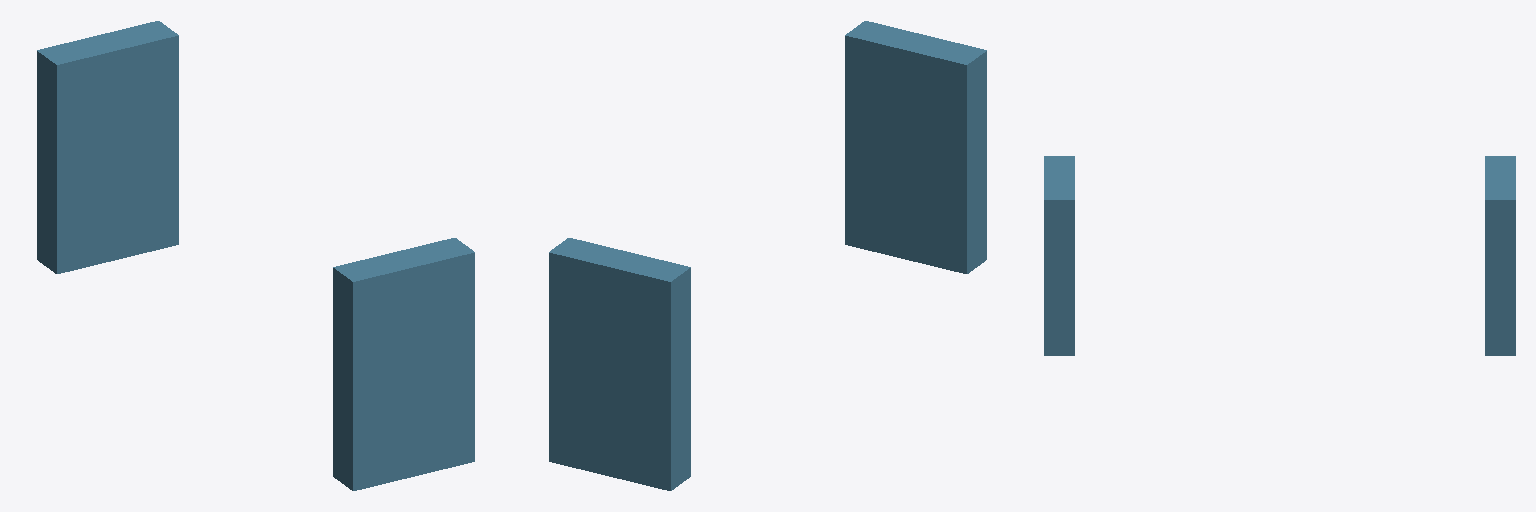
The robot description file, URDF, robot "robotiq_arg2f_85_model":
<?xml version="1.0" ?>
<!-- =================================================================================== -->
<!-- |    This document was autogenerated by xacro from robotiq_arg2f_85_model.xacro   | -->
<!-- |    EDITING THIS FILE BY HAND IS NOT RECOMMENDED                                 | -->
<!-- =================================================================================== -->
<robot name="robotiq_arg2f_85_model">
  <link name="robotiq_arg2f_base_link">
    <inertial>
      <origin rpy="0 0 0" xyz="8.625E-08 -4.6583E-06 0.03145"/>
      <mass value="0.22652"/>
      <inertia ixx="0.00020005" ixy="-4.2442E-10" ixz="-2.9069E-10" iyy="0.00017832" iyz="-3.4402E-08" izz="0.00013478"/>
    </inertial>
    <visual>
      <origin rpy="0 0 0" xyz="0 0 0"/>
      <geometry>
        <mesh filename="package://vr_program_synthesis/meshes/robots/robotiq_85/visual/robotiq_arg2f_85_base_link.dae" scale="0.001 0.001 0.001"/>
      </geometry>
      <material name="LightGrey">
        <color rgba="0.7 0.7 0.7 1.0"/>
      </material>
    </visual>
    <collision>
      <origin rpy="0 0 0" xyz="0 0 0"/>
      <geometry>
        <mesh filename="package://vr_program_synthesis/meshes/robots/robotiq_85/collision/robotiq_arg2f_base_link.stl"/>
      </geometry>
    </collision>
  </link>
  <joint name="finger_joint" type="revolute">
    <origin rpy="0 0 3.14159265359" xyz="0 -0.0306011 0.054904"/>
    <parent link="robotiq_arg2f_base_link"/>
    <child link="left_outer_knuckle"/>
    <axis xyz="1 0 0"/>
    <limit effort="1000" lower="0" upper="0.8" velocity="2.0"/>
  </joint>
  <link name="left_outer_knuckle">
    <inertial>
        <origin xyz="-0.000200000000003065 0.0199435877845359 0.0292245259211331" rpy="0 0 0" />
        <mass value="0.00853198276973456" />
        <inertia ixx="2.89328108496468E-06" ixy="-1.57935047237397E-19" ixz="-1.93980378593255E-19" iyy="1.86719750325683E-06" iyz="-1.21858577871576E-06" izz="1.21905238907251E-06" />
        </inertial>
    <visual>
      <origin rpy="0 0 0" xyz="0 0 0"/>
      <geometry>
        <mesh filename="package://vr_program_synthesis/meshes/robots/robotiq_85/visual/robotiq_arg2f_85_outer_knuckle.dae" scale="0.001 0.001 0.001"/>
      </geometry>
      <material name="">
        <color rgba="1 1 0 1"/>
      </material>
    </visual>
    <collision>
      <origin rpy="0 0 0" xyz="0 0 0"/>
      <geometry>
        <mesh filename="package://vr_program_synthesis/meshes/robots/robotiq_85/collision/robotiq_arg2f_85_outer_knuckle.dae" scale="0.001 0.001 0.001"/>
      </geometry>
    </collision>
  </link>
  <joint name="left_outer_finger_joint" type="fixed">
    <origin rpy="0 0 0" xyz="0 0.0315 -0.0041"/>
    <parent link="left_outer_knuckle"/>
    <child link="left_outer_finger"/>
    <axis xyz="1 0 0"/>
  </joint>
  <link name="left_outer_finger">
    <inertial>
        <origin xyz="0.00030115855001899 0.0373907951953854 -0.0208027427000385" rpy="0 0 0" />
        <mass value="0.022614240507152" />
        <inertia ixx="1.52518312458174E-05" ixy="9.76583423954399E-10" ixz="-5.43838577022588E-10" iyy="6.17694243867776E-06" iyz="6.78636130740228E-06" izz="1.16494917907219E-05" />
        </inertial>
    <visual>
      <origin rpy="0 0 0" xyz="0 0 0"/>
      <geometry>
        <mesh filename="package://vr_program_synthesis/meshes/robots/robotiq_85/visual/robotiq_arg2f_85_outer_finger.dae" scale="0.001 0.001 0.001"/>
      </geometry>
      <material name="LightGrey">
        <color rgba="0 1 1 1.0"/>
      </material>
    </visual>
    <collision>
      <origin rpy="0 0 0" xyz="0 0 0"/>
      <geometry>
        <mesh filename="package://vr_program_synthesis/meshes/robots/robotiq_85/collision/robotiq_arg2f_85_outer_finger.dae" scale="0.001 0.001 0.001"/>
      </geometry>
    </collision>
  </link>
  <joint name="left_inner_finger_joint" type="revolute">
    <origin rpy="0 0 0" xyz="0 0.0061 0.0471"/>
    <parent link="left_outer_finger"/>
    <child link="left_inner_finger"/>
    <axis xyz="1 0 0"/>
    <limit effort="1000" lower="-0.8757" upper="0" velocity="2.0"/>
    <mimic joint="finger_joint" multiplier="-1" offset="0"/>
  </joint>
  <link name="left_inner_finger">
    <inertial>
        <origin xyz="0.000299999999999317 0.0160078233491243 -0.0136945669206257" rpy="0 0 0" />
        <mass value="0.0104003125914103" />
        <inertia ixx="2.71909453810972E-06" ixy="1.35402465472579E-21" ixz="-7.1817349065269E-22" iyy="7.69100314106116E-07" iyz="6.74715432769696E-07" izz="2.30315190420171E-06" />
        </inertial>
    <visual>
      <origin rpy="0 0 0" xyz="0 0 0"/>
      <geometry>
        <mesh filename="package://vr_program_synthesis/meshes/robots/robotiq_85/visual/robotiq_arg2f_85_inner_finger.dae" scale="0.001 0.001 0.001"/>
      </geometry>
      <material name="LightGrey">
        <color rgba="1 0 1 1.0"/>
      </material>
    </visual>
    <collision>
      <origin rpy="0 0 0" xyz="0 0 0"/>
      <geometry>
        <mesh filename="package://vr_program_synthesis/meshes/robots/robotiq_85/collision/robotiq_arg2f_85_inner_finger.dae" scale="0.001 0.001 0.001"/>
      </geometry>
    </collision>
  </link>
  <joint name="left_inner_finger_pad_joint" type="fixed">
    <origin rpy="0 0 0" xyz="0 -0.0220203446692936 0.03242"/>
    <parent link="left_inner_finger"/>
    <child link="left_inner_finger_pad"/>
    <axis xyz="0 0 1"/>
  </joint>
  <link name="left_inner_finger_pad">
    <inertial>
      <mass value="1."/>
      <origin rpy="0 0 0" xyz="0 0 0"/>
      <inertia ixx="1E-10" ixy="1E-10" ixz="1E-10" iyy="1E-10" iyz="1E-10" izz="1E-10"/>
    </inertial>
    <visual>
      <origin rpy="0 0 0" xyz="0 0 0"/>
      <geometry>
        <box size="0.022 0.00635 0.036"/>
      </geometry>
      <material name="UR-Blue">
        <color rgba="0.376 0.576 0.674 1.0"/>
      </material>
    </visual>
    <collision>
      <origin rpy="0 0 0" xyz="0 0 0"/>
      <geometry>
        <box size="0.022 0.00635 0.036"/>
      </geometry>
      <material name="">
        <color rgba="0.9 0.0 0.0 1"/>
      </material>
    </collision>
  </link>
  <joint name="left_inner_knuckle_joint" type="revolute">
    <!-- <origin xyz="0 ${reflect * -0.0127} 0.06142" rpy="${pi / 2 + .725} 0 ${(reflect - 1) * pi / 2}" /> -->
    <origin rpy="0 0 3.14159265359" xyz="0 -0.0127 0.06142"/>
    <parent link="robotiq_arg2f_base_link"/>
    <child link="left_inner_knuckle"/>
    <axis xyz="1 0 0"/>
    <limit effort="1000" lower="0" upper="0.8757" velocity="2.0"/>
    <mimic joint="finger_joint" multiplier="1" offset="0"/>
  </joint>
  <link name="left_inner_knuckle">
    <inertial>
        <origin xyz="0.000123011831763771 0.0507850843201817 0.00103968640075166" rpy="0 0 0" />
       <mass value="0.0271177346495152" />
        <inertia ixx="2.61910379223783E-05" ixy="-2.43616858946494E-07" ixz="-6.37789906117123E-09" iyy="2.8270243746167E-06" iyz="-5.37200748039765E-07" izz="2.83695868220296E-05" />
        </inertial>
    <visual>
      <origin rpy="0 0 0" xyz="0 0 0"/>
      <geometry>
        <mesh filename="package://vr_program_synthesis/meshes/robots/robotiq_85/visual/robotiq_arg2f_85_inner_knuckle.dae" scale="0.001 0.001 0.001"/>
      </geometry>
      <material name="LightGrey">
        <color rgba="0 0 1 1.0"/>
      </material>
    </visual>
    <collision>
      <origin rpy="0 0 0" xyz="0 0 0"/>
      <geometry>
        <mesh filename="package://vr_program_synthesis/meshes/robots/robotiq_85/collision/robotiq_arg2f_85_inner_knuckle.dae" scale="0.001 0.001 0.001"/>
      </geometry>
    </collision>
  </link>
  <joint name="right_outer_knuckle_joint" type="revolute">
    <origin rpy="0 0 0" xyz="0 0.0306011 0.054904"/>
    <parent link="robotiq_arg2f_base_link"/>
    <child link="right_outer_knuckle"/>
    <axis xyz="1 0 0"/>
    <limit effort="1000" lower="0" upper="0.81" velocity="2.0"/>
    <mimic joint="finger_joint" multiplier="1" offset="0"/>
  </joint>
  <link name="right_outer_knuckle">
    <inertial>
        <origin xyz="-0.000200000000003065 0.0199435877845359 0.0292245259211331" rpy="0 0 0" />
        <mass value="0.00853198276973456" />
        <inertia ixx="2.89328108496468E-06" ixy="-1.57935047237397E-19" ixz="-1.93980378593255E-19" iyy="1.86719750325683E-06" iyz="-1.21858577871576E-06" izz="1.21905238907251E-06" />
        </inertial>
    <visual>
      <origin rpy="0 0 0" xyz="0 0 0"/>
      <geometry>
        <mesh filename="package://vr_program_synthesis/meshes/robots/robotiq_85/visual/robotiq_arg2f_85_outer_knuckle.dae" scale="0.001 0.001 0.001"/>
      </geometry>
      <material name="">
        <color rgba="0.792156862745098 0.819607843137255 0.933333333333333 1"/>
      </material>
    </visual>
    <collision>
      <origin rpy="0 0 0" xyz="0 0 0"/>
      <geometry>
        <mesh filename="package://vr_program_synthesis/meshes/robots/robotiq_85/collision/robotiq_arg2f_85_outer_knuckle.dae" scale="0.001 0.001 0.001"/>
      </geometry>
    </collision>
  </link>
  <joint name="right_outer_finger_joint" type="fixed">
    <origin rpy="0 0 0" xyz="0 0.0315 -0.0041"/>
    <parent link="right_outer_knuckle"/>
    <child link="right_outer_finger"/>
    <axis xyz="1 0 0"/>
  </joint>
  <link name="right_outer_finger">
    <inertial>
        <origin xyz="0.00030115855001899 0.0373907951953854 -0.0208027427000385" rpy="0 0 0" />
        <mass value="0.022614240507152" />
        <inertia ixx="1.52518312458174E-05" ixy="9.76583423954399E-10" ixz="-5.43838577022588E-10" iyy="6.17694243867776E-06" iyz="6.78636130740228E-06" izz="1.16494917907219E-05" />
        </inertial>
    <visual>
      <origin rpy="0 0 0" xyz="0 0 0"/>
      <geometry>
        <mesh filename="package://vr_program_synthesis/meshes/robots/robotiq_85/visual/robotiq_arg2f_85_outer_finger.dae" scale="0.001 0.001 0.001"/>
      </geometry>
      <material name="LightGrey">
        <color rgba="0.7 0.7 0.7 1.0"/>
      </material>
    </visual>
    <collision>
      <origin rpy="0 0 0" xyz="0 0 0"/>
      <geometry>
        <mesh filename="package://vr_program_synthesis/meshes/robots/robotiq_85/collision/robotiq_arg2f_85_outer_finger.dae" scale="0.001 0.001 0.001"/>
      </geometry>
    </collision>
  </link>
  <joint name="right_inner_finger_joint" type="revolute">
    <origin rpy="0 0 0" xyz="0 0.0061 0.0471"/>
    <parent link="right_outer_finger"/>
    <child link="right_inner_finger"/>
    <axis xyz="1 0 0"/>
    <limit effort="1000" lower="-0.8757" upper="0" velocity="2.0"/>
    <mimic joint="finger_joint" multiplier="-1" offset="0"/>
  </joint>
  <link name="right_inner_finger">
    <inertial>
        <origin xyz="0.000299999999999317 0.0160078233491243 -0.0136945669206257" rpy="0 0 0" />
        <mass value="0.0104003125914103" />
        <inertia ixx="2.71909453810972E-06" ixy="1.35402465472579E-21" ixz="-7.1817349065269E-22" iyy="7.69100314106116E-07" iyz="6.74715432769696E-07" izz="2.30315190420171E-06" />
        </inertial>
    <visual>
      <origin rpy="0 0 0" xyz="0 0 0"/>
      <geometry>
        <mesh filename="package://vr_program_synthesis/meshes/robots/robotiq_85/visual/robotiq_arg2f_85_inner_finger.dae" scale="0.001 0.001 0.001"/>
      </geometry>
      <material name="">
        <color rgba="0.1 0.1 0.1 1"/>
      </material>
    </visual>
    <collision>
      <origin rpy="0 0 0" xyz="0 0 0"/>
      <geometry>
        <mesh filename="package://vr_program_synthesis/meshes/robots/robotiq_85/collision/robotiq_arg2f_85_inner_finger.dae" scale="0.001 0.001 0.001"/>
      </geometry>
    </collision>
  </link>
  <joint name="right_inner_finger_pad_joint" type="fixed">
    <origin rpy="0 0 0" xyz="0 -0.0220203446692936 0.03242"/>
    <parent link="right_inner_finger"/>
    <child link="right_inner_finger_pad"/>
    <axis xyz="0 0 1"/>
  </joint>
  <link name="right_inner_finger_pad">
    <inertial>
      <origin rpy="0 0 0" xyz="0 0 0"/>
      <mass value="1"/>
      <inertia ixx="1E-10" ixy="1E-10" ixz="1E-10" iyy="1E-10" iyz="1E-10" izz="1E-10"/>
    </inertial>
    <visual>
      <origin rpy="0 0 0" xyz="0 0 0"/>
      <geometry>
        <box size="0.022 0.00635 0.036"/>
      </geometry>
      <material name="UR-Blue">
        <color rgba="0.376 0.576 0.674 1.0"/>
      </material>
    </visual>
    <collision>
      <origin rpy="0 0 0" xyz="0 0 0"/>
      <geometry>
        <box size="0.022 0.00635 0.036"/>
      </geometry>
      <material name="LightGrey">
        <color rgba="0.7 0.7 0.7 1.0"/>
      </material>
    </collision>
  </link>
  <joint name="right_inner_knuckle_joint" type="revolute">
    <!-- <origin xyz="0 ${reflect * -0.0127} 0.06142" rpy="${pi / 2 + .725} 0 ${(reflect - 1) * pi / 2}" /> -->
    <origin rpy="0 0 0.0" xyz="0 0.0127 0.06142"/>
    <parent link="robotiq_arg2f_base_link"/>
    <child link="right_inner_knuckle"/>
    <axis xyz="1 0 0"/>
    <limit effort="1000" lower="0" upper="0.8757" velocity="2.0"/>
    <mimic joint="finger_joint" multiplier="1" offset="0"/>
  </joint>
  <link name="right_inner_knuckle">
    <inertial>
        <origin xyz="0.000123011831763771 0.0507850843201817 0.00103968640075166" rpy="0 0 0" />
       <mass value="0.0271177346495152" />
        <inertia ixx="2.61910379223783E-05" ixy="-2.43616858946494E-07" ixz="-6.37789906117123E-09" iyy="2.8270243746167E-06" iyz="-5.37200748039765E-07" izz="2.83695868220296E-05" />
        </inertial>
    <visual>
      <origin rpy="0 0 0" xyz="0 0 0"/>
      <geometry>
        <mesh filename="package://vr_program_synthesis/meshes/robots/robotiq_85/visual/robotiq_arg2f_85_inner_knuckle.dae" scale="0.001 0.001 0.001"/>
      </geometry>
      <material name="LightGrey">
        <color rgba="0.7 0.7 0.7 1.0"/>
      </material>
    </visual>
    <collision>
      <origin rpy="0 0 0" xyz="0 0 0"/>
      <geometry>
        <mesh filename="package://vr_program_synthesis/meshes/robots/robotiq_85/collision/robotiq_arg2f_85_inner_knuckle.dae" scale="0.001 0.001 0.001"/>
      </geometry>
    </collision>
  </link>
</robot>

--- Facts derived from the render (not from the file) ---
Views: 3 orthographic renders of the robot side by side, from view 1: azimuth 30°, elevation 25°; view 2: azimuth 150°, elevation 25°; view 3: azimuth 270°, elevation 25°.
Robot: robotiq_arg2f_85_model — 11 links, 10 joints (6 revolute, 4 fixed); root link robotiq_arg2f_base_link; default pose: all joints at 0.
Links seen in each view (by area): view 1: left_inner_finger_pad, right_inner_finger_pad; view 2: left_inner_finger_pad, right_inner_finger_pad; view 3: left_inner_finger_pad, right_inner_finger_pad.
Link boxes in pixels (left/top/right/bottom): left_inner_finger_pad: left=333, top=238, right=474, bottom=490; right_inner_finger_pad: left=37, top=21, right=178, bottom=273; left_inner_finger_pad: left=845, top=21, right=986, bottom=273; right_inner_finger_pad: left=549, top=238, right=690, bottom=490; left_inner_finger_pad: left=1044, top=156, right=1074, bottom=355; right_inner_finger_pad: left=1485, top=156, right=1515, bottom=355.
Size in the robot's own frame: 0.022 by 0.0987 by 0.036 metres.
Meshes: 5 distinct files referenced, 0 mesh visuals loaded (none loaded); not drawn: 9 (reference not matched to a file when rendering).